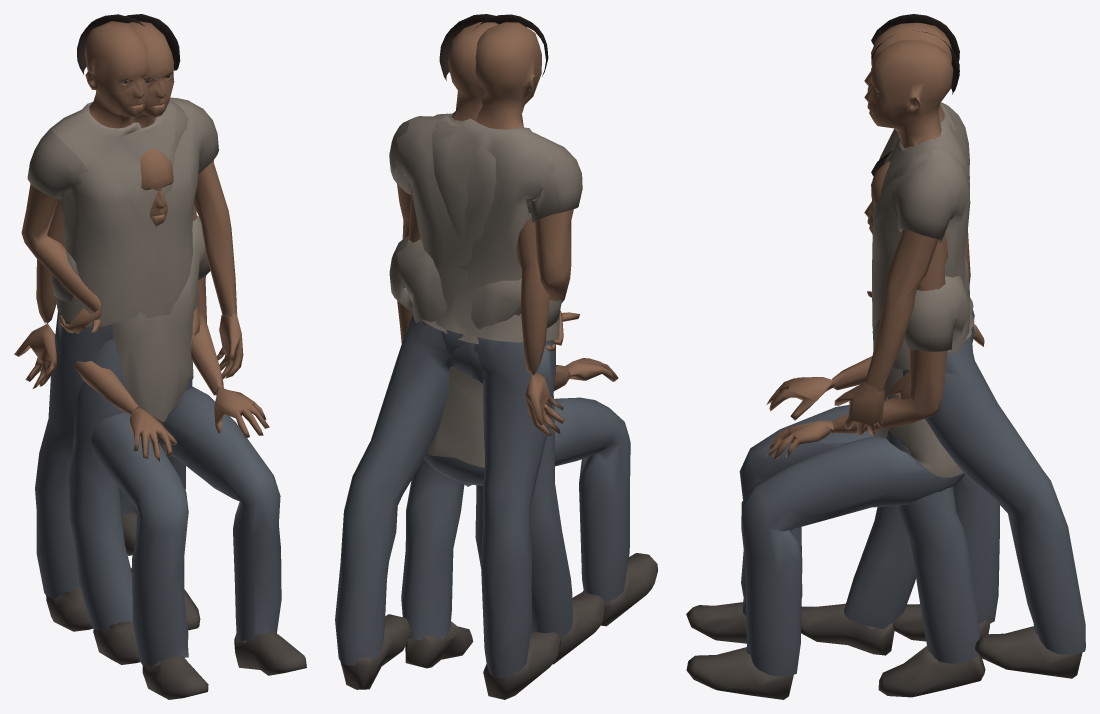
The model's file is crowd-10-crowd.glb.
3 views of the same model, side by side, from view 1: azimuth 30°, elevation 25°; view 2: azimuth 150°, elevation 25°; view 3: azimuth 270°, elevation 25° (orthographic). The views are drawn at different scales.
Parts seen in each view (by area): view 1: seated, standing, walking; view 2: standing, walking, seated; view 3: walking, seated, standing.
Part boxes in pixels (x1,y1,x2,y2): seated: (52, 148, 306, 699); standing: (21, 14, 200, 631); walking: (14, 14, 243, 664); standing: (401, 14, 582, 699); walking: (335, 14, 605, 689); seated: (389, 236, 657, 626); walking: (801, 30, 1085, 678); seated: (686, 151, 969, 699); standing: (864, 14, 999, 697).
Size of the model in its own units: 0.5402 by 1.76 by 0.9909.
